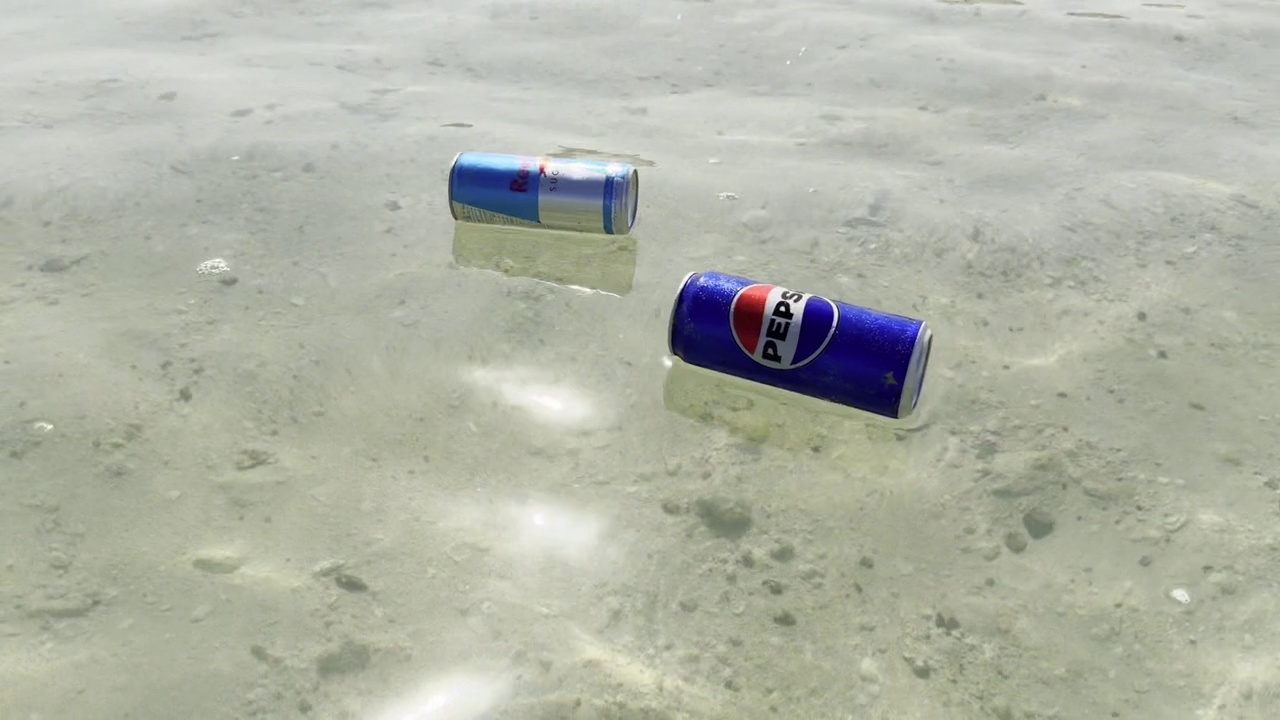debris: (653, 267, 944, 425), (445, 142, 643, 238)
